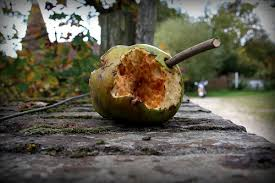damaged_apple: (87, 42, 183, 124)
